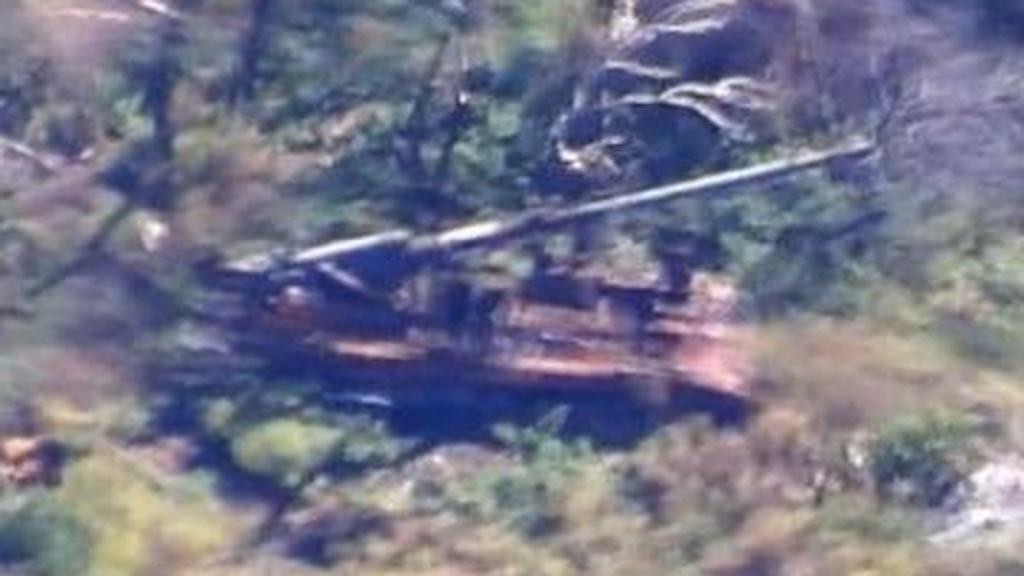ART: (230, 132, 882, 418)
